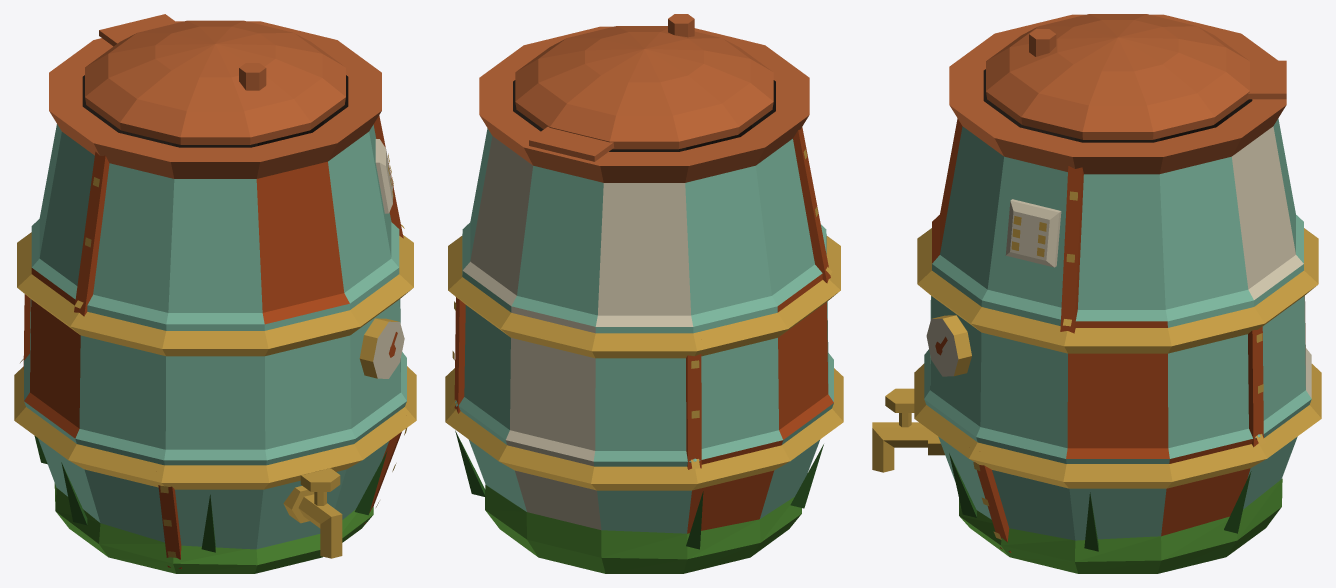
File: brass-fitted-water-butt-3bca1b.glb
3 views of the same model, side by side, from view 1: azimuth 30°, elevation 25°; view 2: azimuth 150°, elevation 25°; view 3: azimuth 270°, elevation 25° (orthographic). The views are drawn at different scales.
Visible parts, largest first — view 1: butt, lid-mesh; view 2: butt, lid-mesh; view 3: butt, lid-mesh.
Part boxes in pixels (left/top/right/bottom): butt: left=14, top=21, right=416, bottom=573; lid-mesh: left=85, top=14, right=345, bottom=144; butt: left=445, top=26, right=843, bottom=573; lid-mesh: left=515, top=14, right=773, bottom=161; butt: left=872, top=14, right=1321, bottom=573; lid-mesh: left=986, top=14, right=1286, bottom=139.
Size of the model in its own units: 0.8936 by 1.16 by 0.9856.
